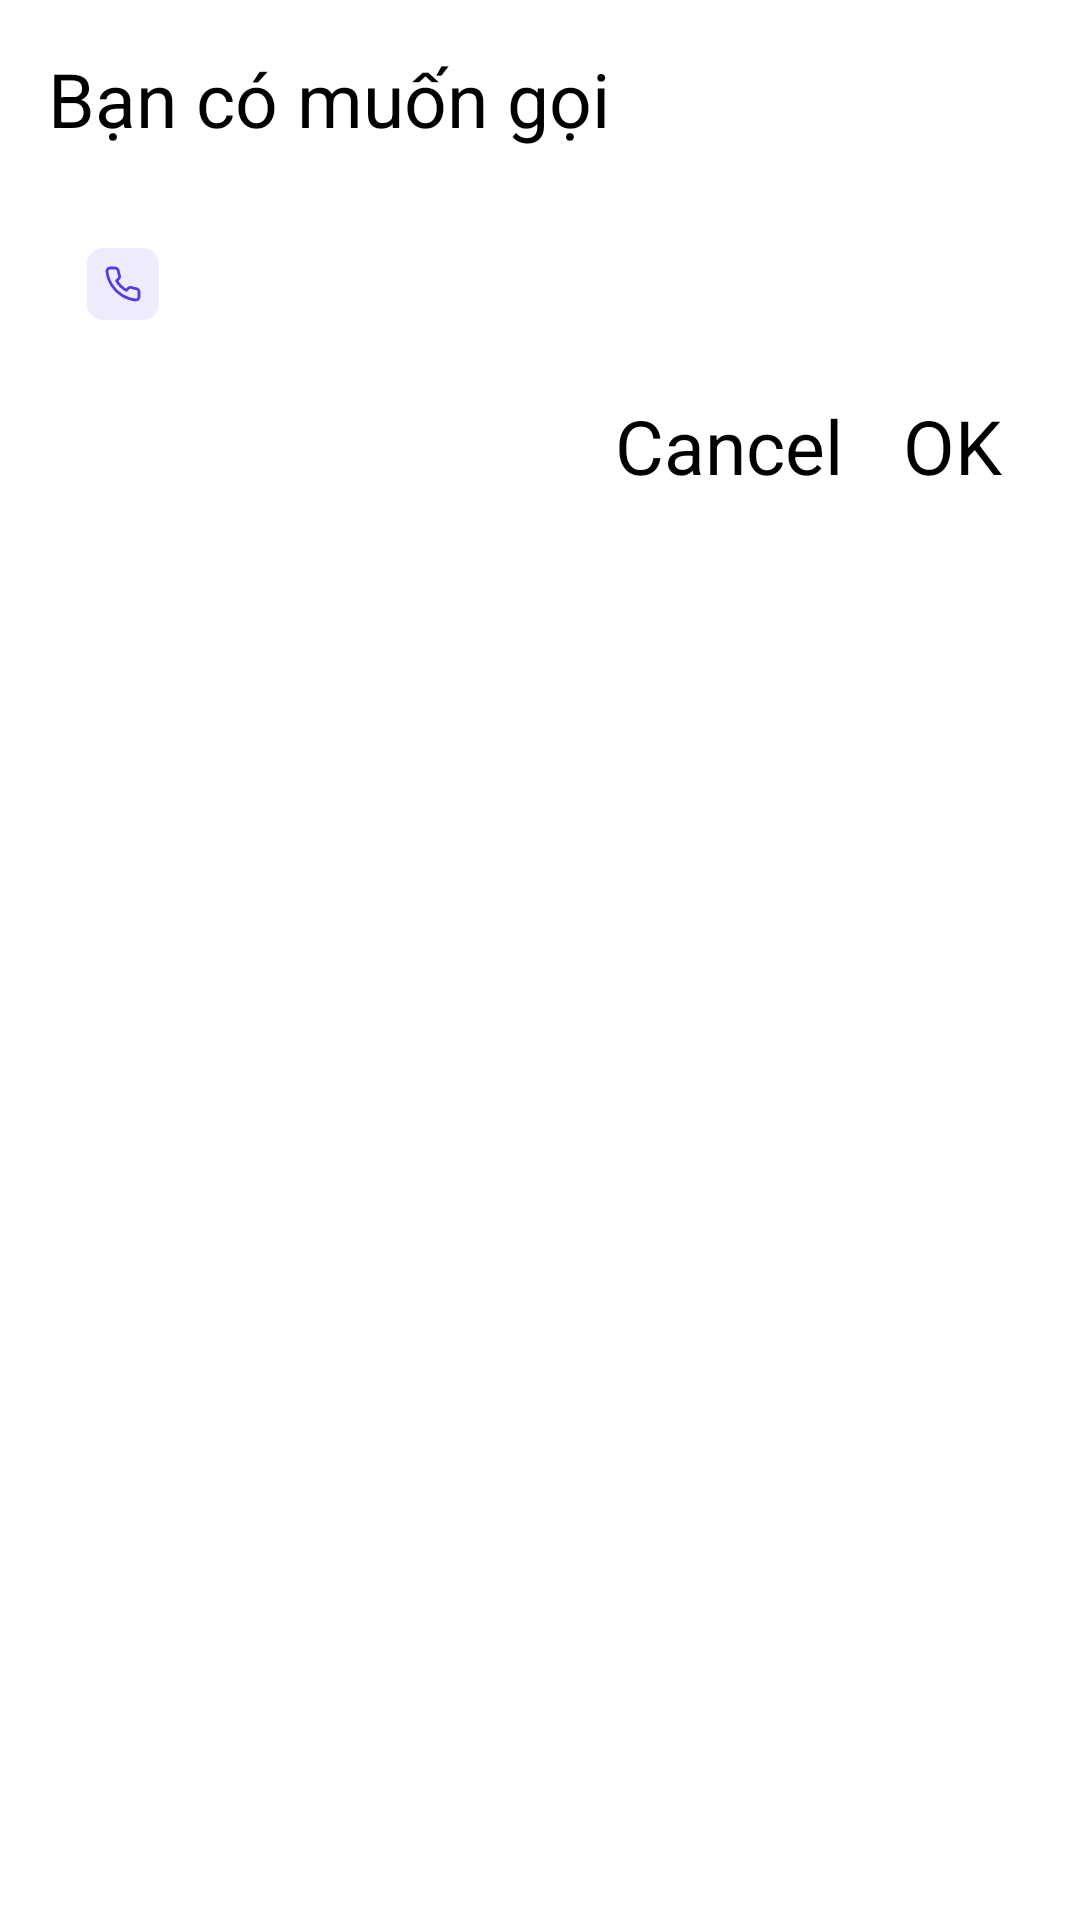

Named icons in this screenshot (1080 × 1920) and their bounding boxes, (x1, y1, x2, y2):
phone: (87, 248, 159, 320)
